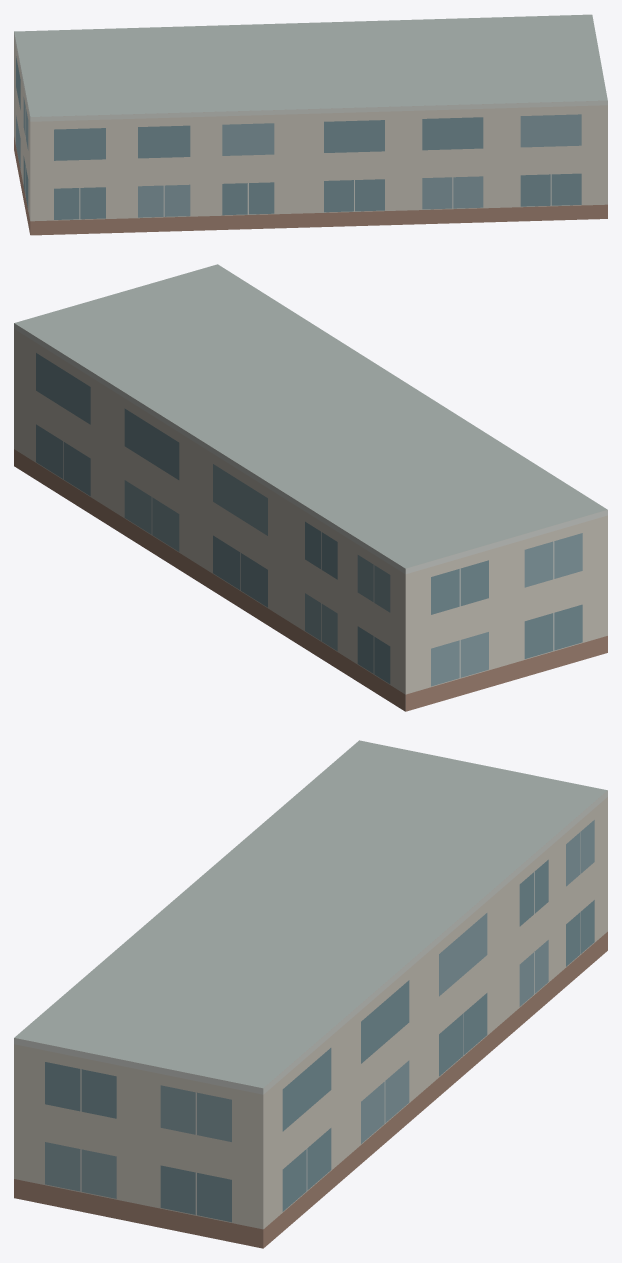
The model's file is survey-upis-32950390.glb.
The picture shows the model from 3 angles, top to bottom: view 1: azimuth 30°, elevation 25°; view 2: azimuth 150°, elevation 25°; view 3: azimuth 270°, elevation 25°; orthographic projection. The views are drawn at different scales.
Visible parts, largest first — view 1: survey-upis-32950390.tmp; view 2: survey-upis-32950390.tmp; view 3: survey-upis-32950390.tmp.
Boxes of the visible parts, <box> form: survey-upis-32950390.tmp: <box>14,14,607,235</box>; survey-upis-32950390.tmp: <box>14,264,607,711</box>; survey-upis-32950390.tmp: <box>14,740,607,1248</box>.
Size of the model in its own units: 28.42 by 6.1 by 20.49.
